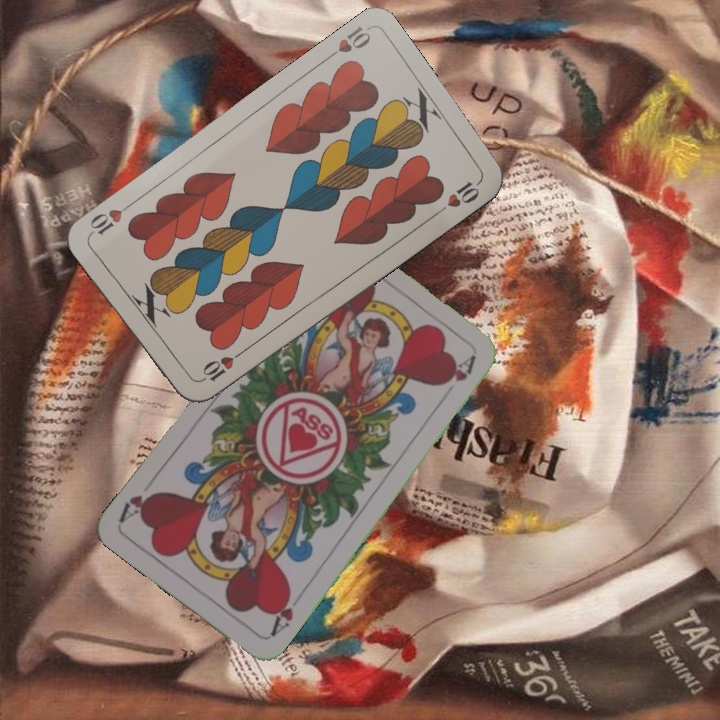H10: (320, 22, 373, 64), (194, 346, 247, 385)
HA: (266, 586, 296, 640)
